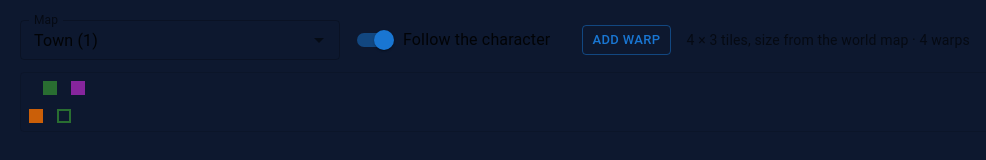
Test: the Map page › draws the picked map with its warps, each naming its destination
Expected: the element with test id "map-view" is shown, [29,81,85,123]
Expected: the text with test id "map-caption" reads "4 × 3 tiles, size from the world map · 4 warps", [686,30,970,50]
Hover over the 2nd element with test id "map-warp" at (78, 88), box [71,81,85,95]
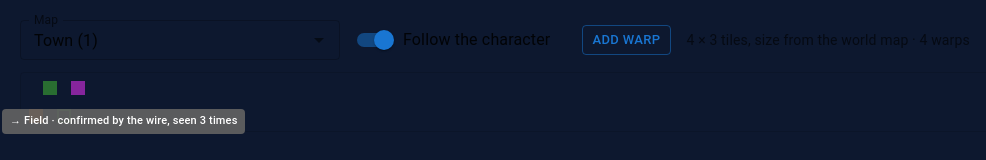
Now the text "→ Field · confirmed by the wire, seen 3 times" is shown, box [2,109,246,134]
Hover over the 1st element with test id "map-warp" at (50, 88), box [43,81,57,95]
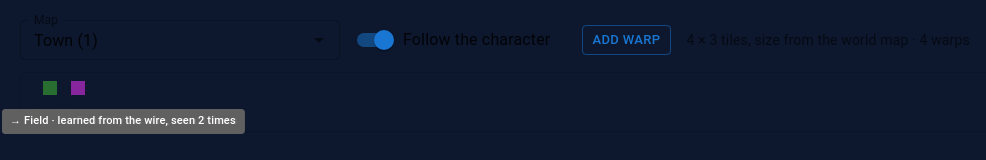
Now the text "→ Field · learned from the wire, seen 2 times" is shown, box [2,109,244,134]
